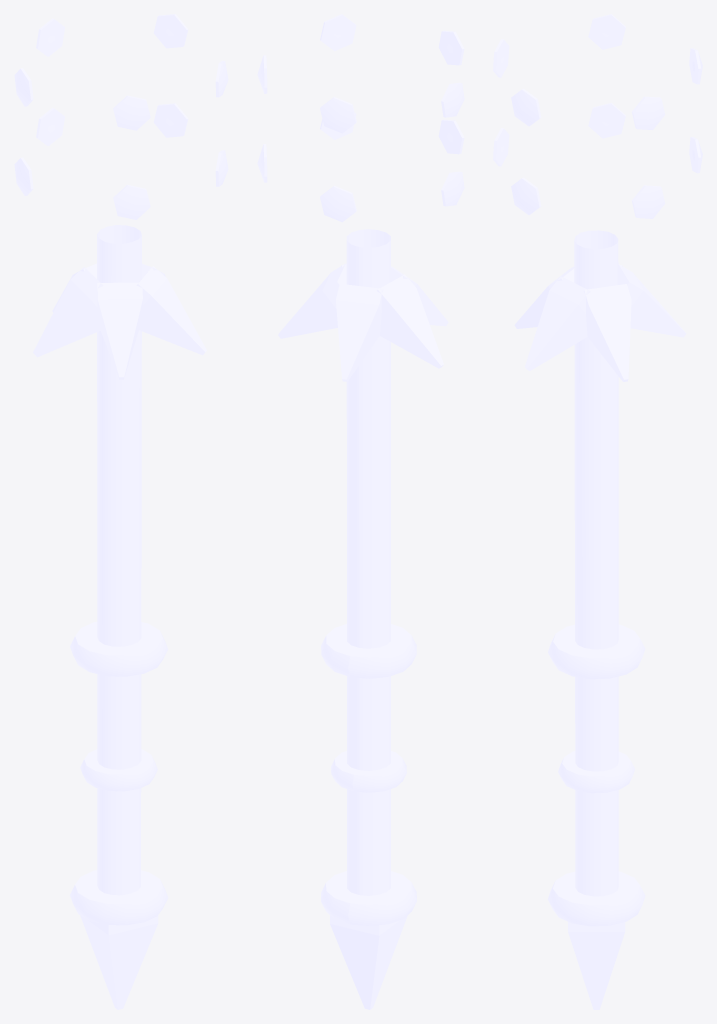
3 views of the same model, side by side, from view 1: azimuth 30°, elevation 25°; view 2: azimuth 150°, elevation 25°; view 3: azimuth 270°, elevation 25° (orthographic).
Parts seen in each view (by area): view 1: SM_DR_Fern_02_LOD0; view 2: SM_DR_Fern_02_LOD0; view 3: SM_DR_Fern_02_LOD0.
Boxes of the visible parts, box(x1,y1,x2,y2) form: SM_DR_Fern_02_LOD0: box(14, 14, 228, 1009); SM_DR_Fern_02_LOD0: box(257, 14, 464, 1009); SM_DR_Fern_02_LOD0: box(493, 14, 702, 1009).
Size of the model in its own units: 0.3248 by 1.61 by 0.322.
